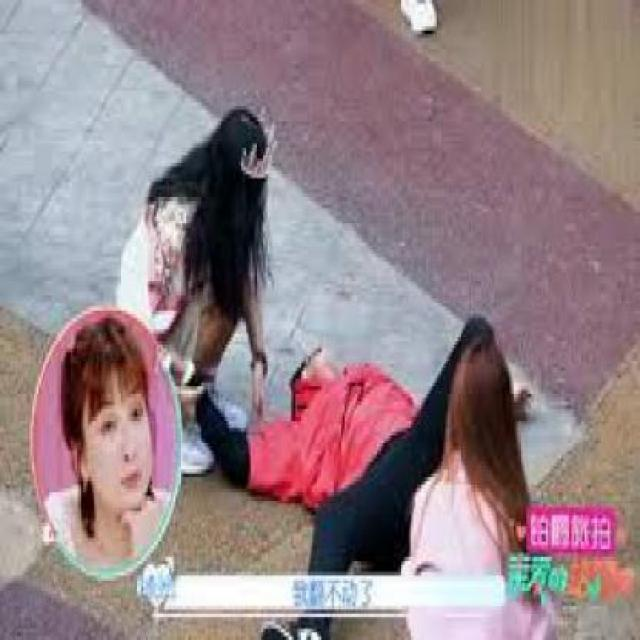fall: (173, 285, 524, 617)
